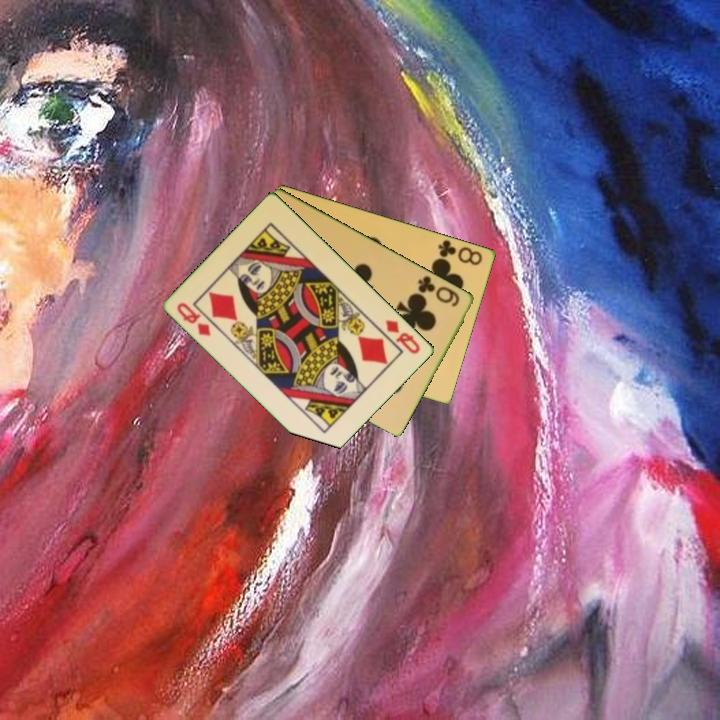6c: (414, 272, 463, 309)
8c: (435, 236, 486, 268)
Qd: (382, 316, 424, 357), (174, 299, 214, 339)
